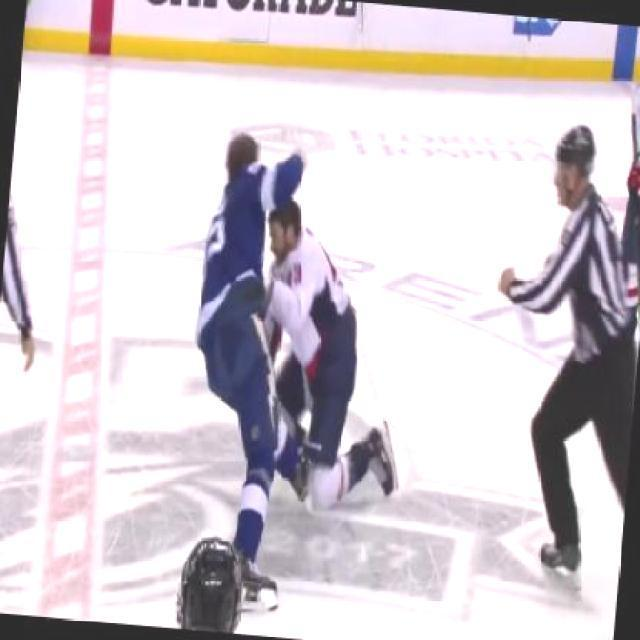fight: (181, 126, 424, 528)
non-fight: (470, 116, 638, 602)
